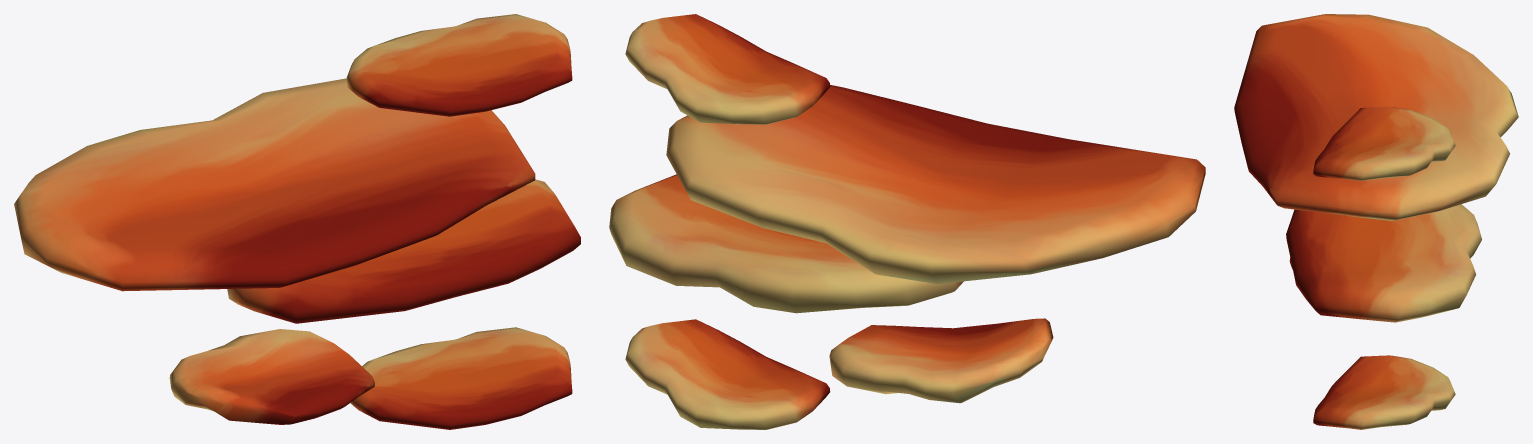
The model's file is MushroomWallFungus2_Deco.fbx.
3 renders of one model, left to right at view 1: azimuth 30°, elevation 25°; view 2: azimuth 150°, elevation 25°; view 3: azimuth 270°, elevation 25°, orthographic. The views are drawn at different scales.
Parts seen in each view (by area): view 1: MushroomWallFungus2; view 2: MushroomWallFungus2; view 3: MushroomWallFungus2.
Part boxes in pixels (box(x1,y1,x2,y2)): MushroomWallFungus2: box(14, 14, 580, 429); MushroomWallFungus2: box(609, 14, 1205, 429); MushroomWallFungus2: box(1234, 14, 1518, 429).
Bounding box in the file's own units: 47.97 × 29.76 × 27.04.
